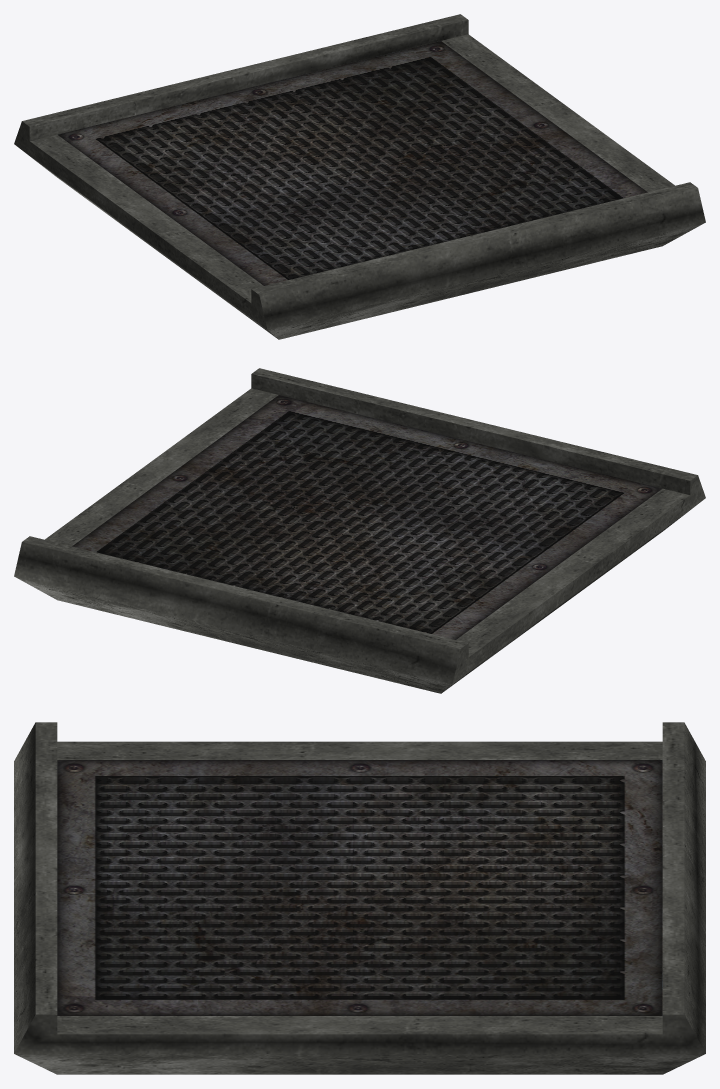
The model's file is catwalk_A.fbx.
3 views of the same model, one above another, from view 1: azimuth 30°, elevation 25°; view 2: azimuth 150°, elevation 25°; view 3: azimuth 270°, elevation 25° (orthographic). The views are drawn at different scales.
Visible parts, largest first — view 1: polySurface486, pCube240; view 2: polySurface486, pCube240; view 3: polySurface486, pCube240.
Part boxes in pixels (<box>): polySurface486: <box>57,41,647,285</box>; pCube240: <box>14,14,705,339</box>; polySurface486: <box>72,395,662,639</box>; pCube240: <box>14,368,705,693</box>; polySurface486: <box>57,760,662,1015</box>; pCube240: <box>14,722,705,1074</box>.
Bounding box in the file's own units: 800 × 100 × 800.
